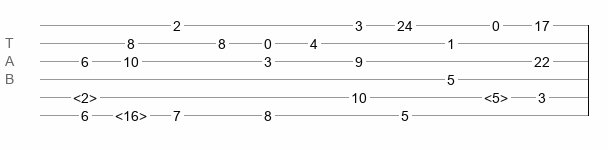0: (264, 36, 272, 46), (492, 18, 500, 28)
1: (447, 36, 455, 46)
10: (123, 54, 139, 64), (351, 90, 367, 100)
17: (534, 18, 550, 28)
2: (173, 18, 181, 28)
22: (534, 54, 550, 64)
24: (397, 18, 413, 28)
3: (264, 54, 272, 64), (355, 18, 363, 28), (538, 90, 546, 100)
4: (310, 36, 318, 46)
5: (401, 108, 409, 118), (447, 72, 455, 82)
6: (81, 108, 89, 118), (81, 54, 89, 64)
7: (173, 108, 181, 118)
8: (127, 36, 135, 46), (218, 36, 226, 46), (264, 108, 272, 118)
9: (355, 54, 363, 64)
harmonic: (115, 108, 147, 118), (73, 90, 97, 100), (484, 90, 508, 100)
